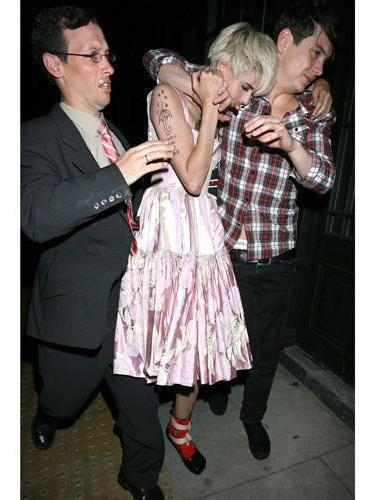Drunk: (70, 27, 114, 107), (292, 35, 331, 92), (227, 52, 257, 111)
